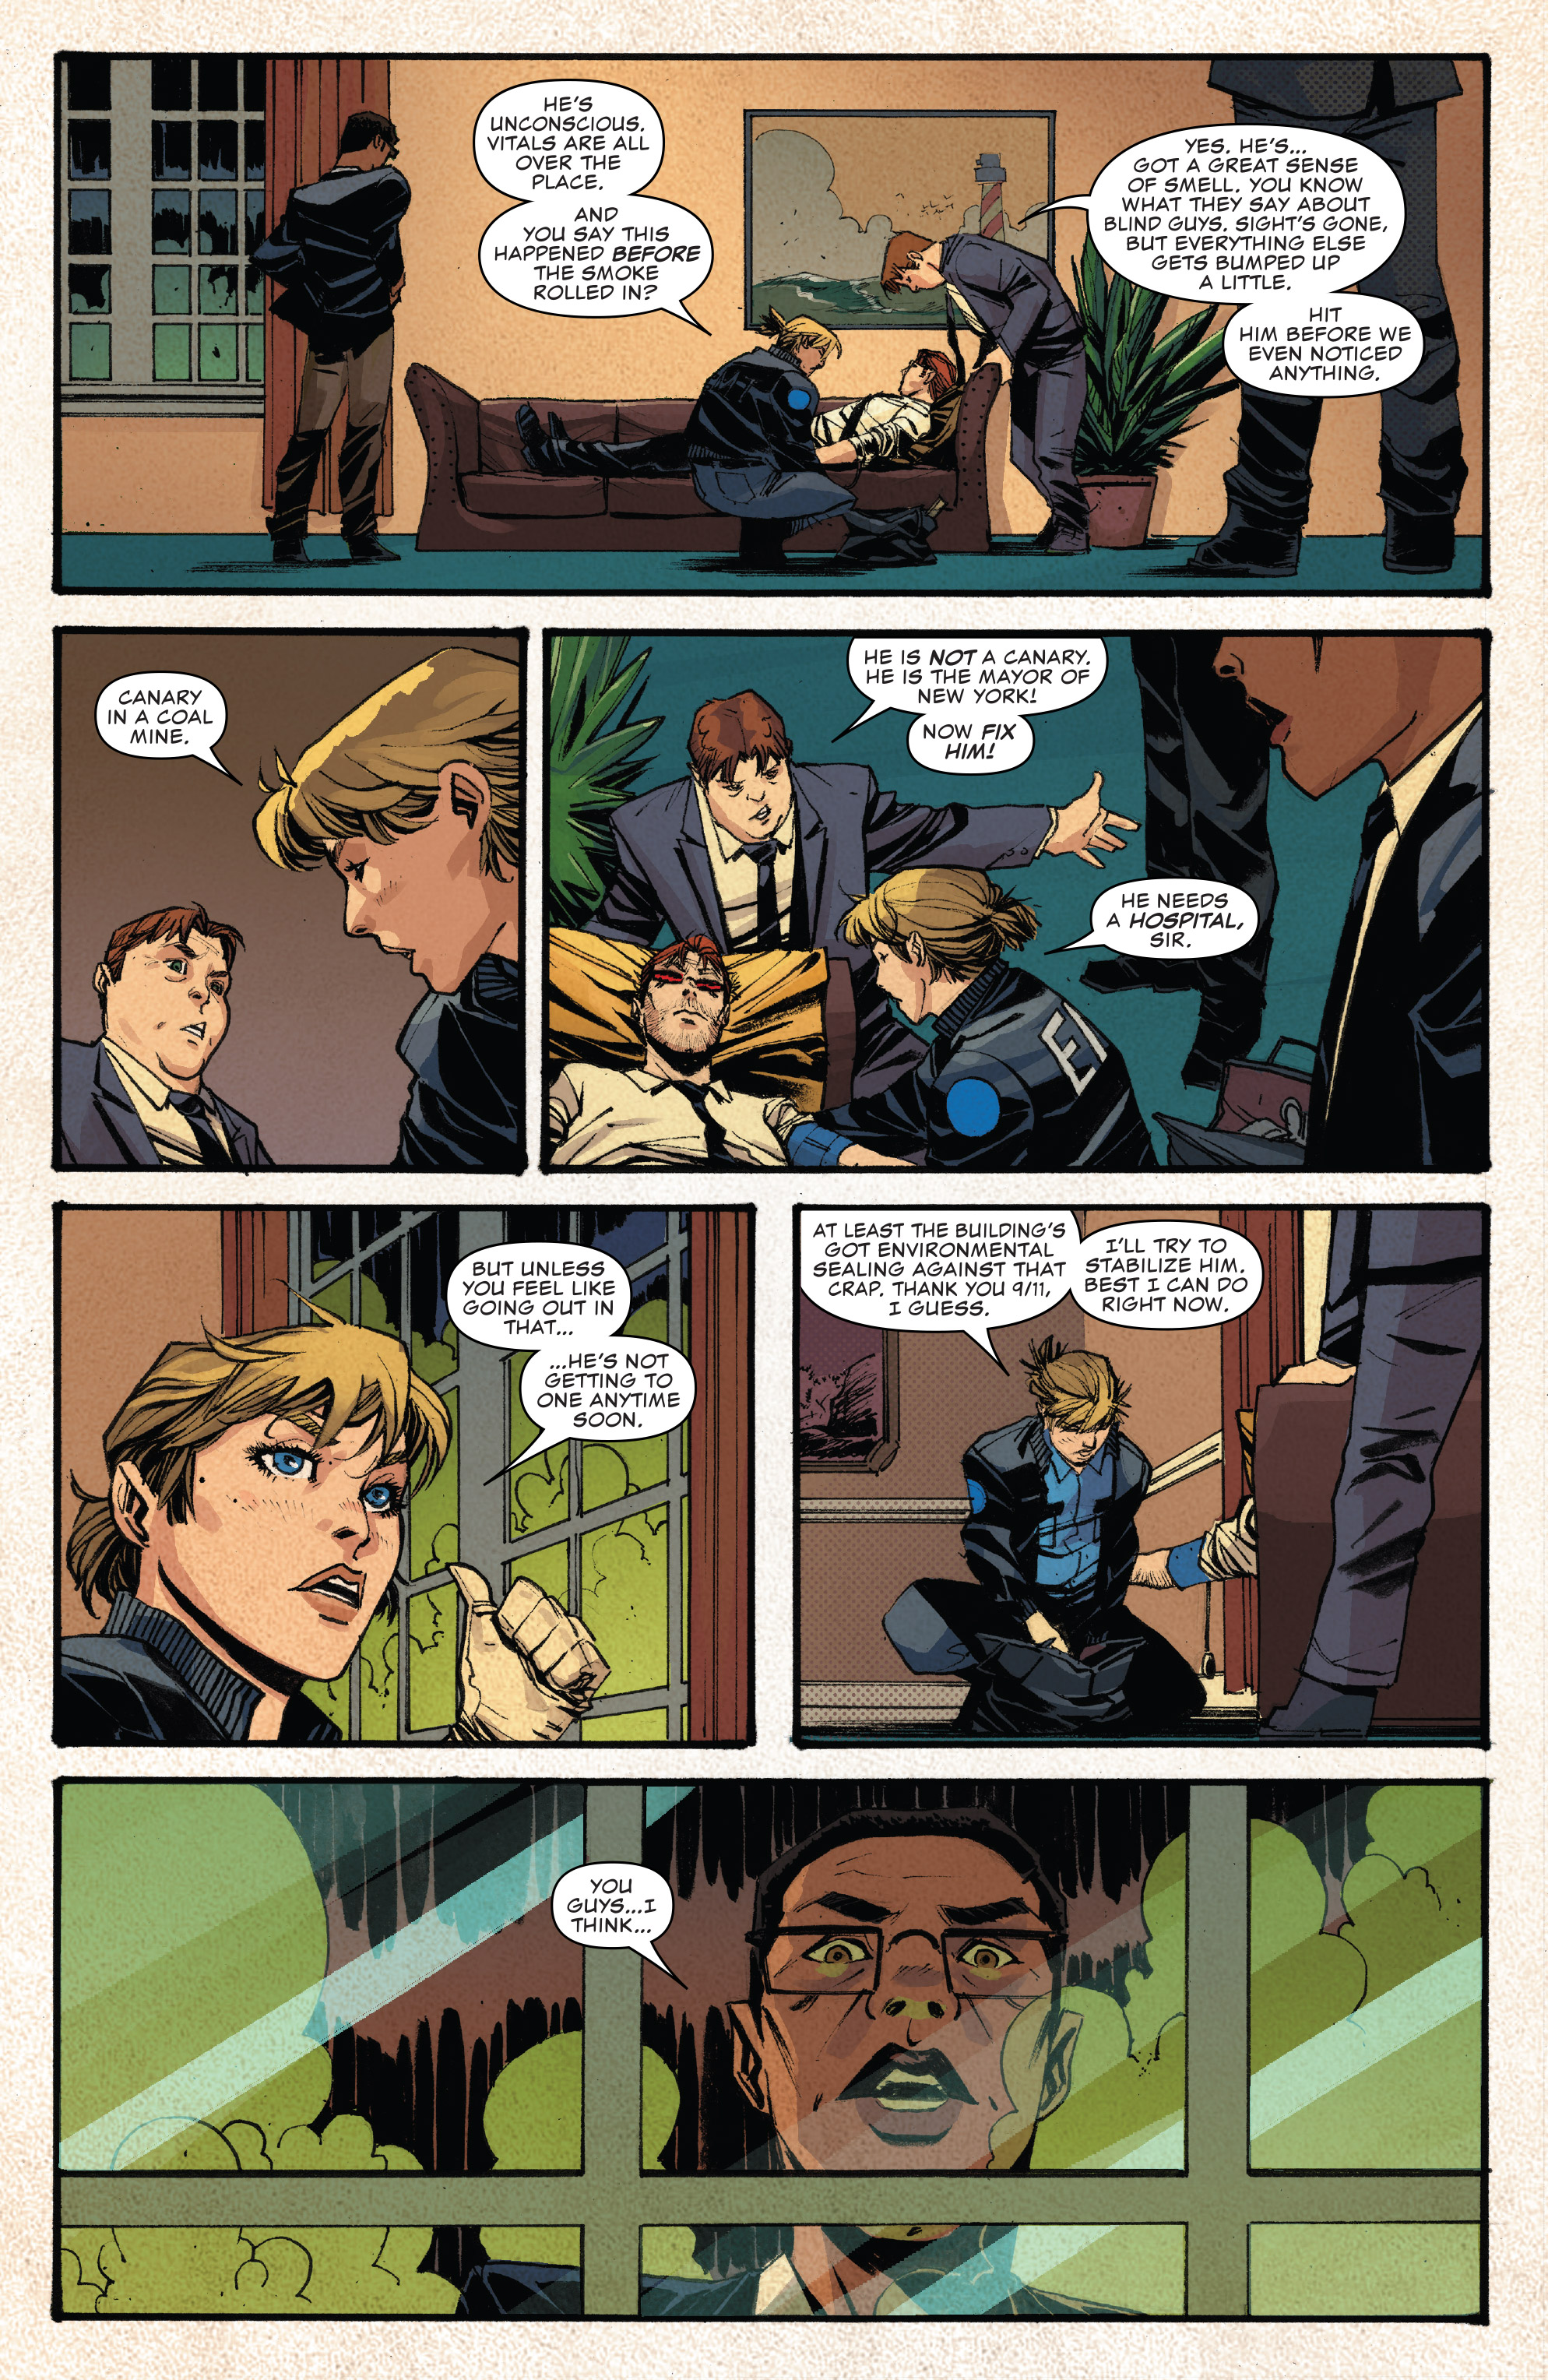Baloon: (1031, 118, 1451, 396), (475, 80, 728, 343), (439, 1246, 690, 1471), (794, 1207, 1080, 1386), (842, 626, 1116, 786), (1083, 1219, 1265, 1341), (1038, 874, 1269, 970), (97, 671, 244, 800), (556, 1865, 686, 1986)
Vignetta: (52, 1776, 1491, 2328), (55, 47, 1484, 600), (553, 630, 1494, 1167), (55, 1204, 751, 1742), (797, 1200, 1484, 1742), (52, 637, 520, 1183)
